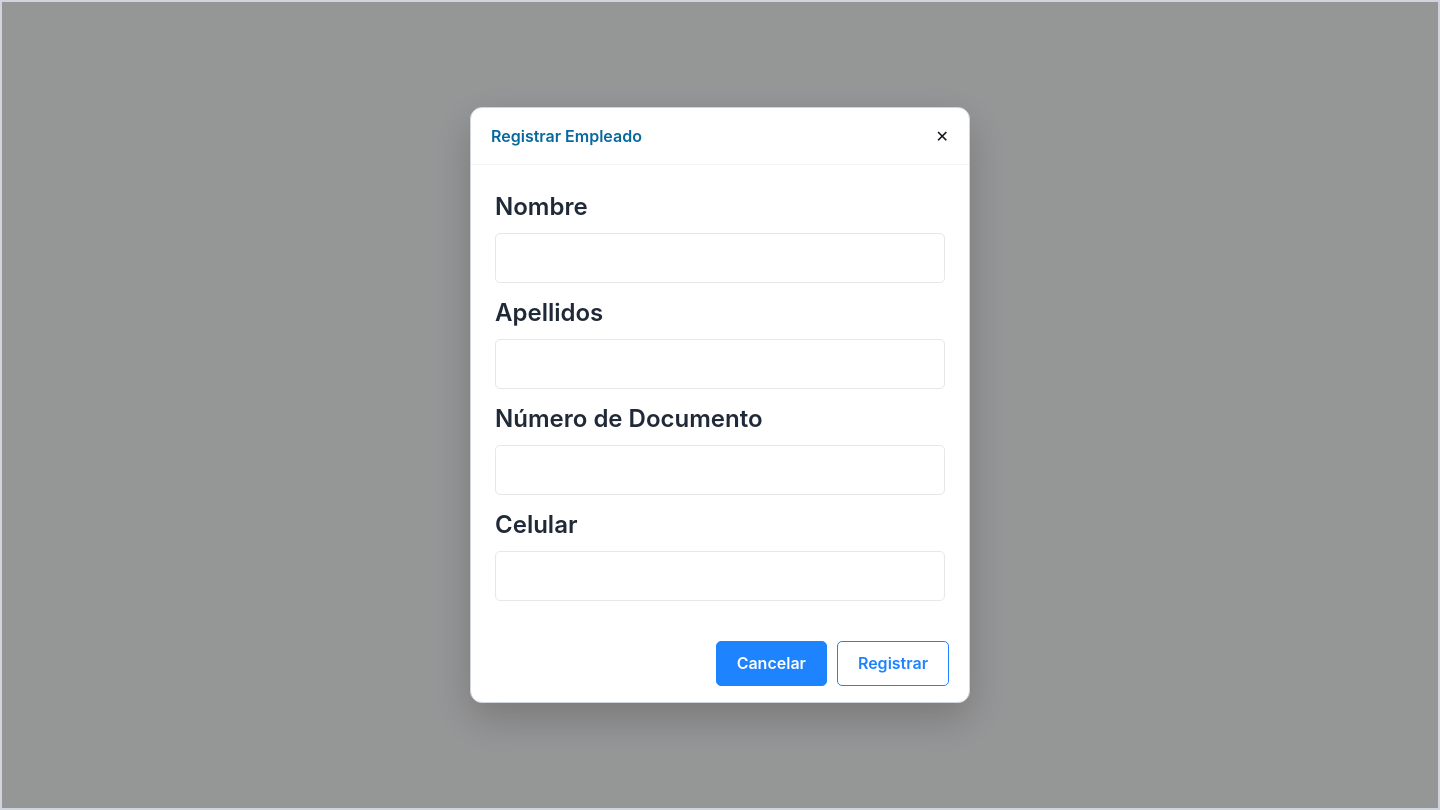
Regresión: Componente RegistrarEmpleados › CP-1.3: Debe mostrar error de validación si el celular no tiene 10 dígitos
Type "Juan Alberto" into the field labelled "Nombre".
click(720, 258); type("Juan Alberto")  # box x1=495 y1=233 x2=945 y2=283
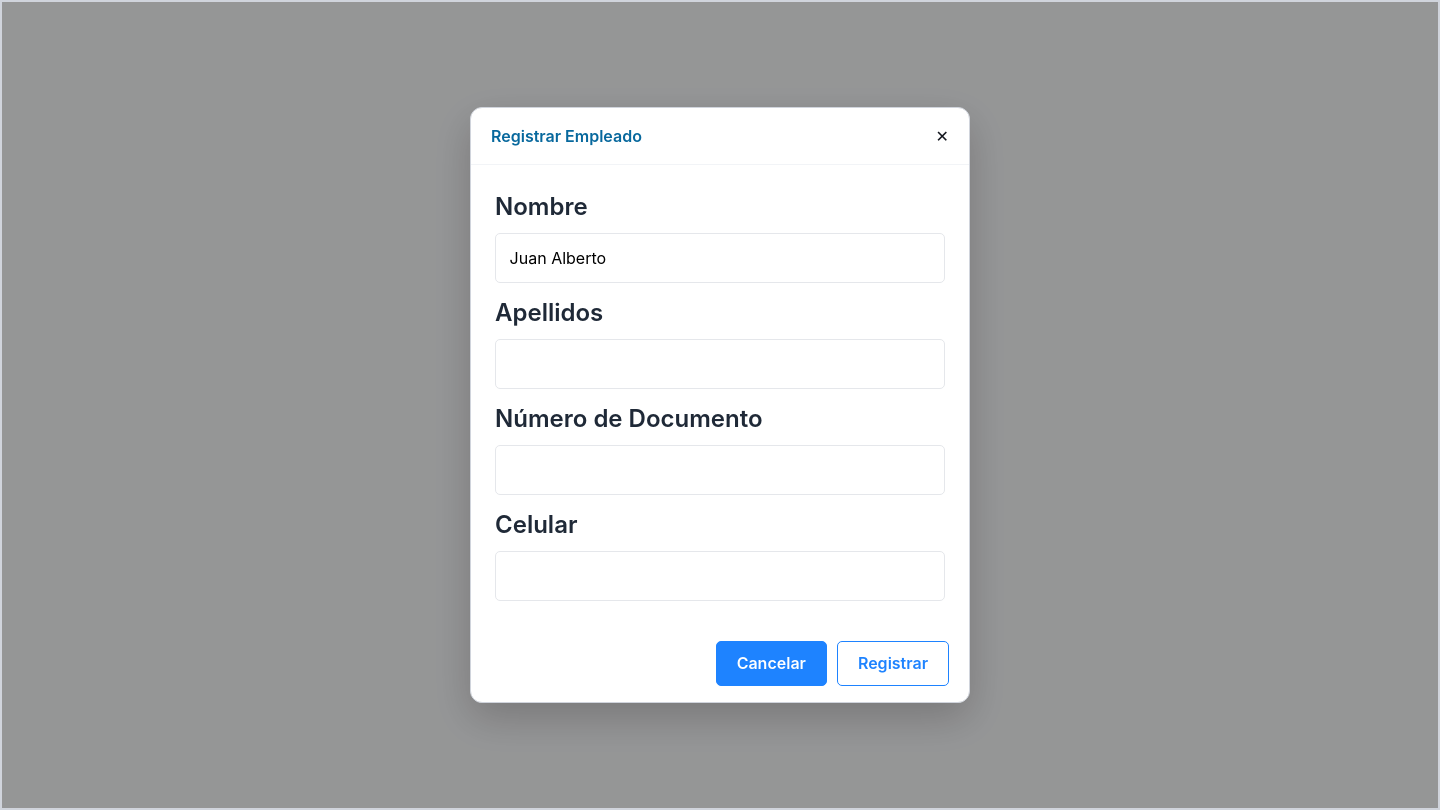
Type "Rincon Garcia" into the field labelled "Apellidos".
click(720, 364); type("Rincon Garcia")  # box x1=495 y1=339 x2=945 y2=389
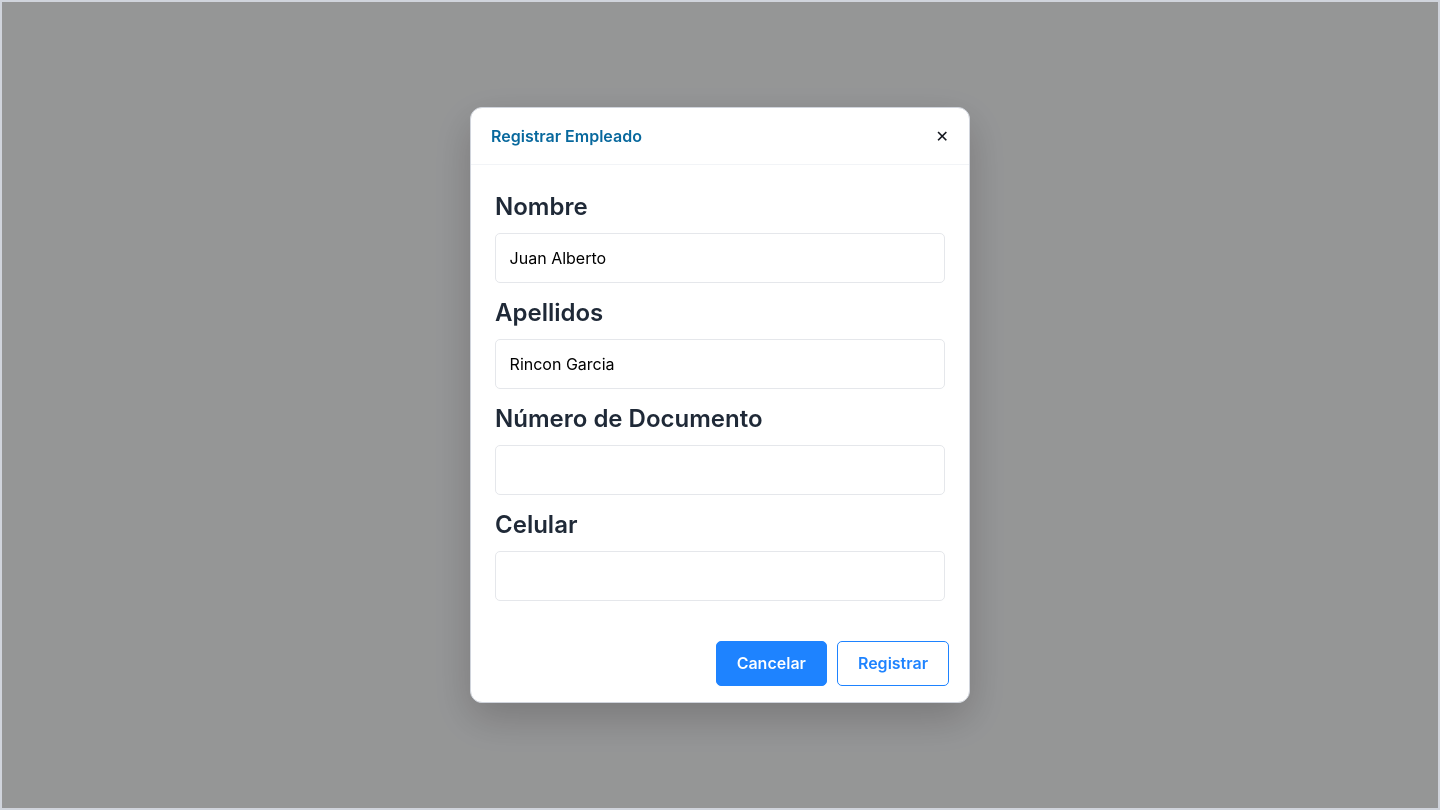
Type "1000234567" into the field labelled "Número de Documento".
click(720, 470); type("1000234567")  # box x1=495 y1=445 x2=945 y2=495
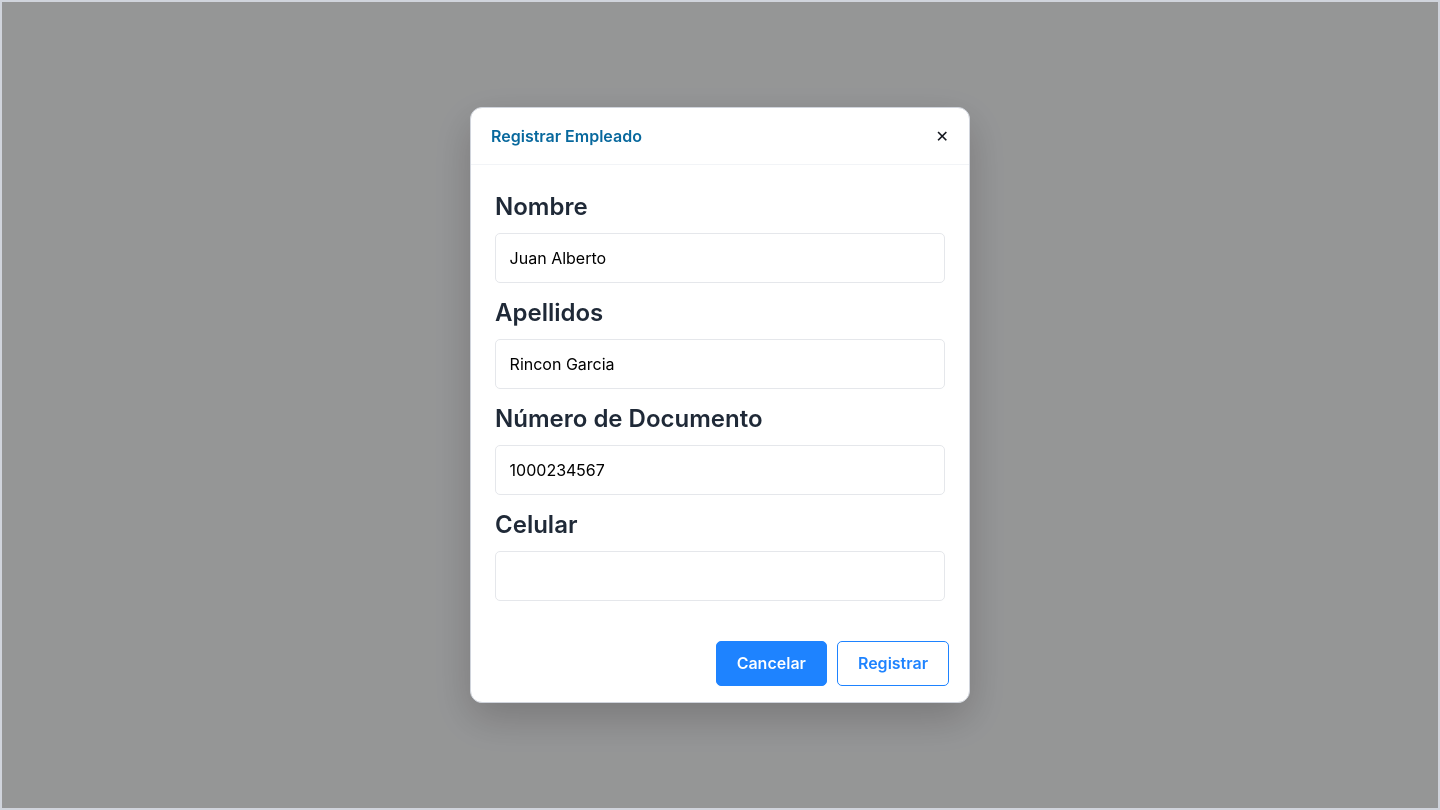
Type "3004567890" into the field labelled "Celular".
click(720, 576); type("3004567890")  # box x1=495 y1=551 x2=945 y2=601
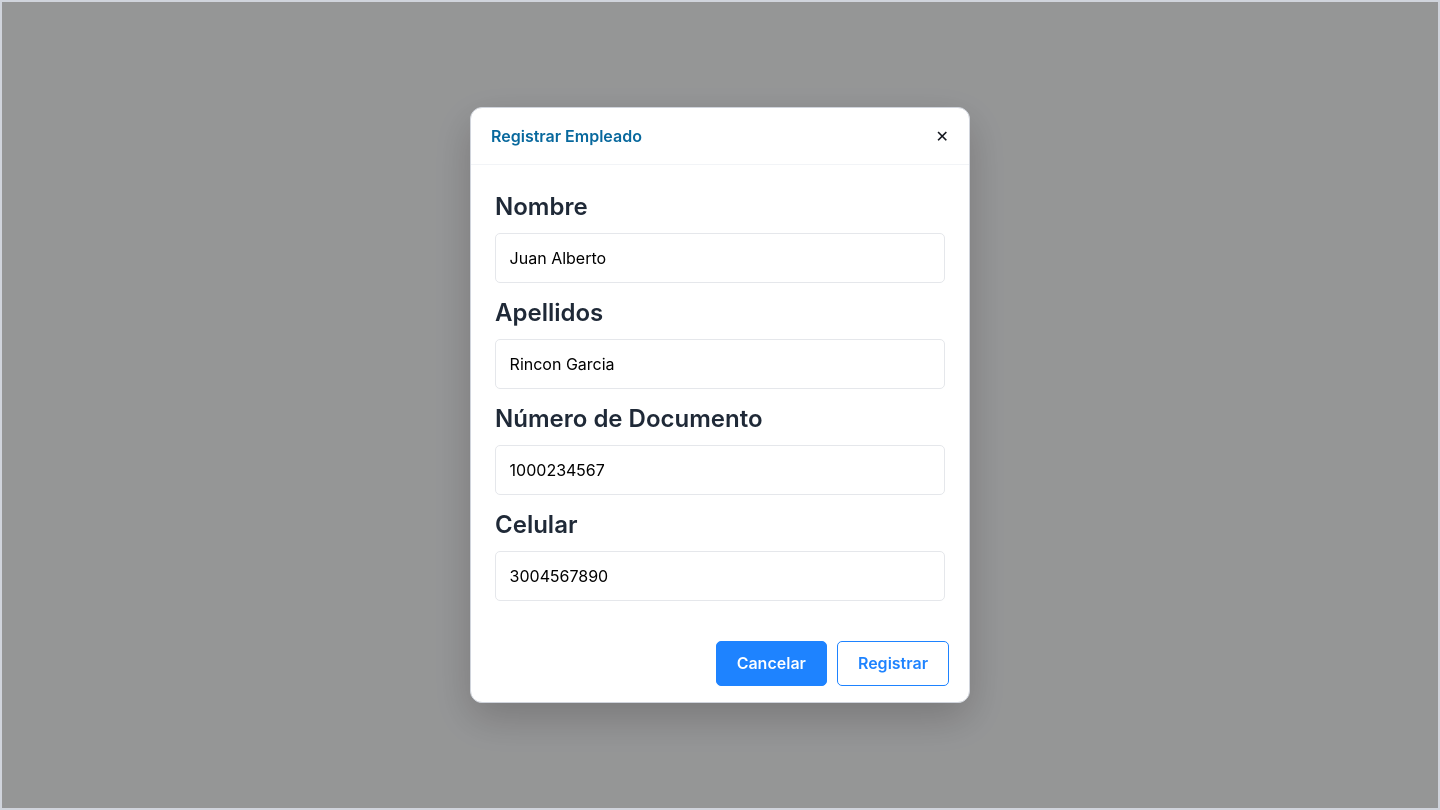
Replace the text in the field labelled "Celular" with "123" at (720, 576), box x1=495 y1=551 x2=945 y2=601
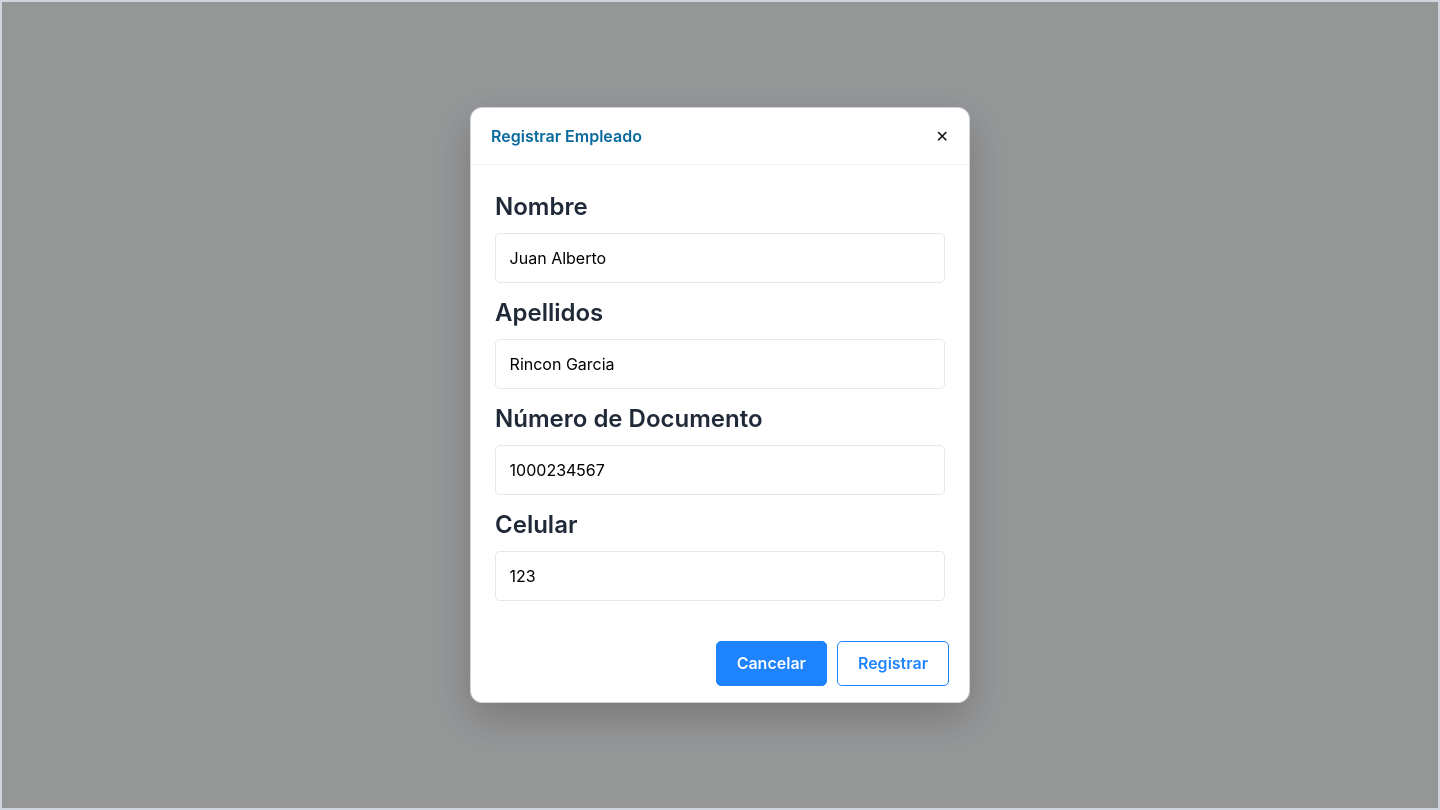
Click the button "Registrar".
click(893, 664)  # box x1=837 y1=641 x2=949 y2=686
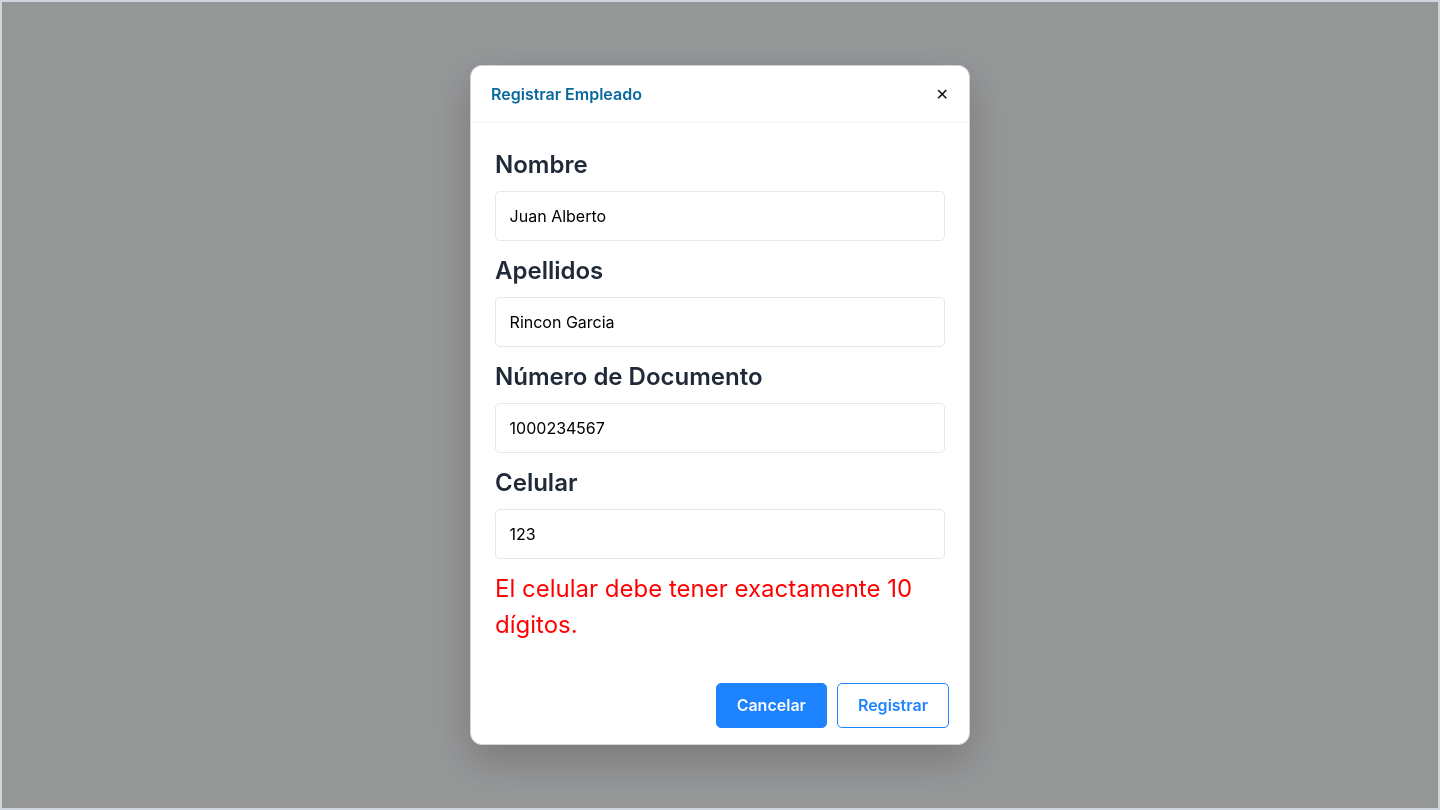
Now the text "El celular debe tener exactamente 10 dígitos." is shown, box x1=495 y1=571 x2=945 y2=643
